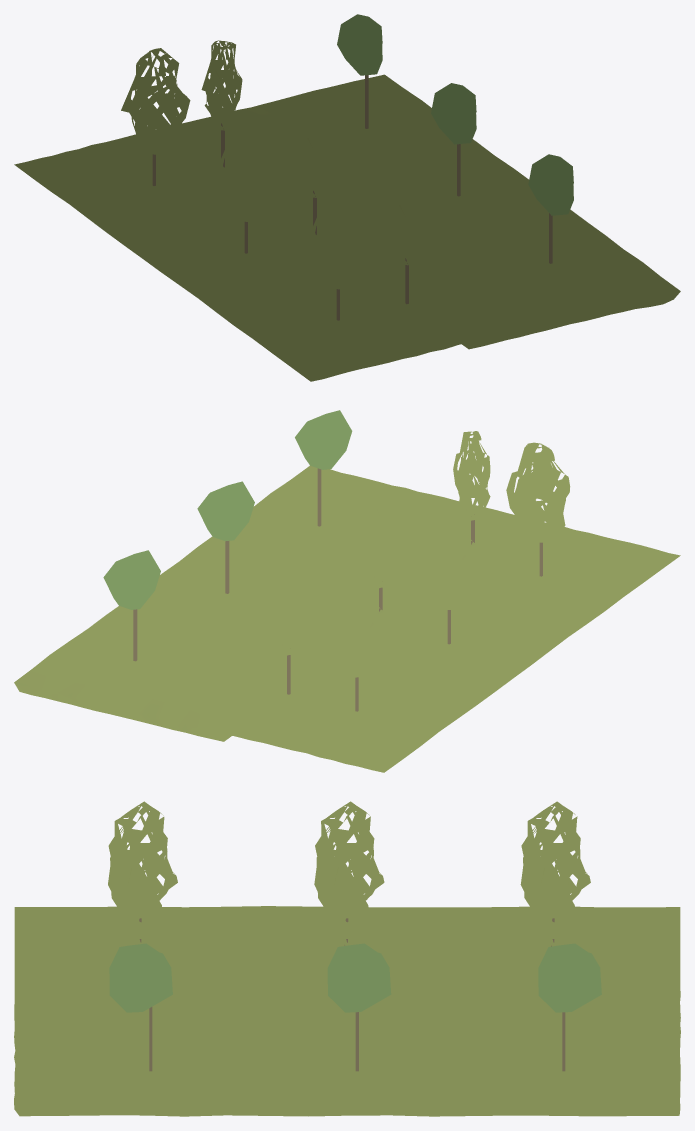
File: park1.glb
3 views of the same model, one above another, from view 1: azimuth 30°, elevation 25°; view 2: azimuth 150°, elevation 25°; view 3: azimuth 270°, elevation 25° (orthographic). The views are drawn at different scales.
Visible parts, largest first — view 1: Grass.006; view 2: Grass.006; view 3: Grass.006.
Part boxes in pixels (bbox=[...]): Grass.006: bbox=[14, 14, 680, 381]; Grass.006: bbox=[14, 410, 680, 772]; Grass.006: bbox=[14, 801, 680, 1116].
Bounding box in the file's own units: 350 × 129 × 486.
